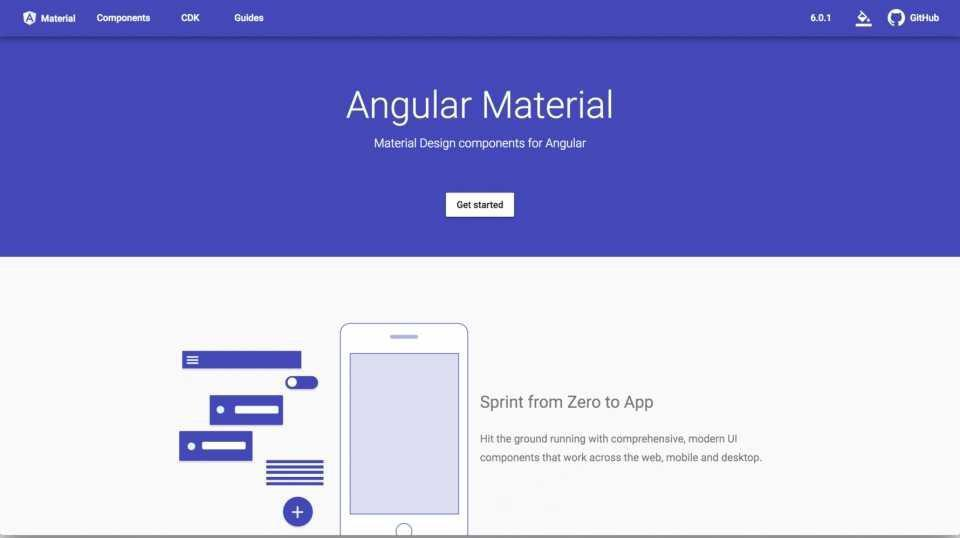button: (447, 195, 515, 217)
icon: (887, 10, 909, 30), (855, 11, 876, 29), (292, 505, 307, 521)
label: (94, 14, 150, 25), (233, 13, 269, 25), (182, 14, 203, 26)
